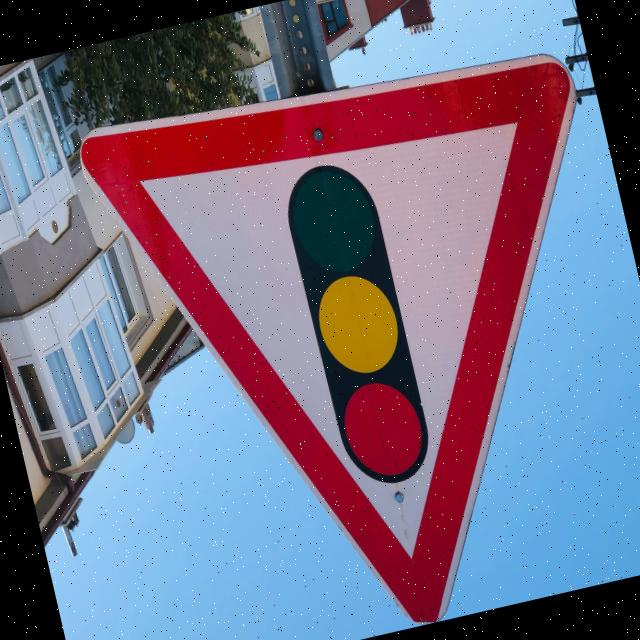light_traffic: (78, 17, 640, 640)
